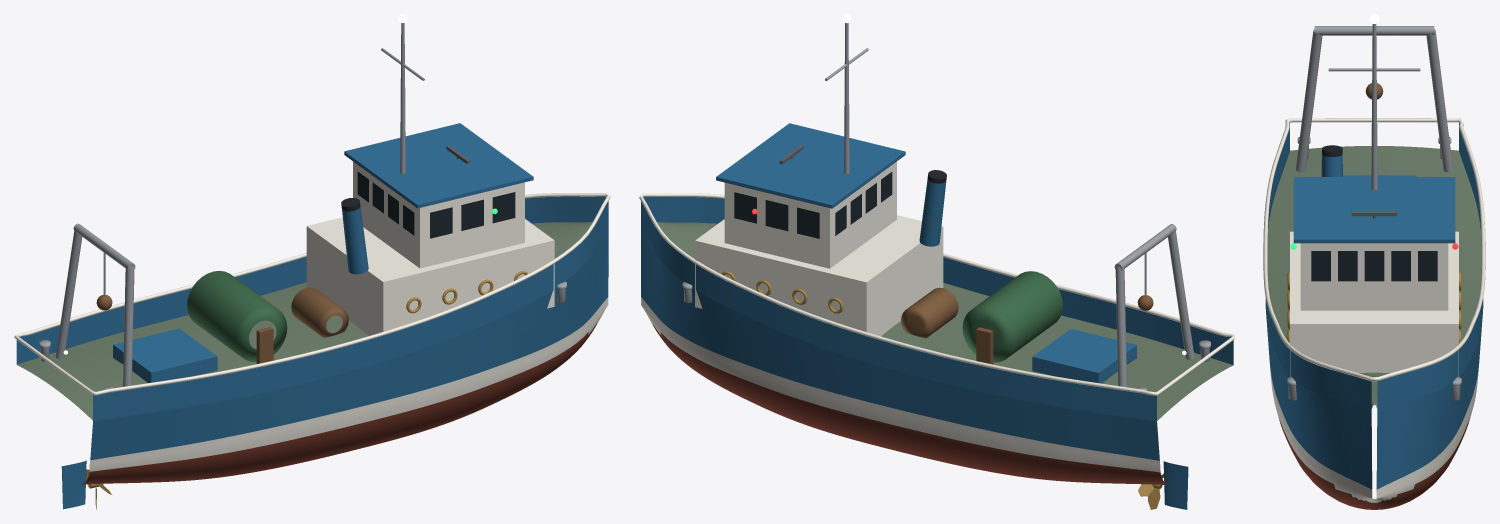
The model's file is trawler.glb.
3 views of the same model, side by side, from view 1: azimuth 30°, elevation 25°; view 2: azimuth 150°, elevation 25°; view 3: azimuth 270°, elevation 25° (orthographic). The views are drawn at different scales.
Visible parts, largest first — view 1: hull, bulwark, deckhouse, deck, wheelhouse_roof, wheelhouse, net_drum, capping_rail, fish_hatch, stern_gantry, wheelhouse_win_s, trawl_winch (+4 smaller); view 2: hull, bulwark, deckhouse, deck, wheelhouse_roof, wheelhouse, net_drum, capping_rail, fish_hatch, stern_gantry, trawl_winch, wheelhouse_win_p (+4 smaller); view 3: hull, deckhouse, wheelhouse_roof, deck, wheelhouse, bulwark, stern_gantry, capping_rail, wheelhouse_win_f, mast_pole, bollards, exhaust_stack (+2 smaller).
Boxes of the visible parts, <box> form: hull: <box>79,225,608,484</box>; bulwark: <box>16,196,608,421</box>; deckhouse: <box>306,217,554,335</box>; deck: <box>17,221,592,420</box>; wheelhouse_roof: <box>344,123,533,208</box>; wheelhouse: <box>353,161,524,268</box>; net_drum: <box>187,271,287,362</box>; capping_rail: <box>14,193,610,395</box>; fish_hatch: <box>113,328,217,382</box>; stern_gantry: <box>55,223,135,386</box>; wheelhouse_win_s: <box>430,192,515,238</box>; trawl_winch: <box>291,287,348,337</box>; hull: <box>641,226,1171,485</box>; bulwark: <box>641,197,1233,421</box>; deckhouse: <box>695,215,943,336</box>; deck: <box>657,222,1233,420</box>; wheelhouse_roof: <box>716,123,905,208</box>; wheelhouse: <box>724,161,896,268</box>; net_drum: <box>962,271,1062,362</box>; capping_rail: <box>639,193,1234,395</box>; fish_hatch: <box>1032,329,1136,383</box>; stern_gantry: <box>1114,224,1194,387</box>; trawl_winch: <box>901,287,958,338</box>; wheelhouse_win_p: <box>734,192,819,238</box>; hull: <box>1266,322,1482,509</box>; deckhouse: <box>1290,231,1458,376</box>; wheelhouse_roof: <box>1293,177,1455,243</box>; deck: <box>1267,146,1481,408</box>; wheelhouse: <box>1300,243,1448,310</box>; bulwark: <box>1265,122,1483,409</box>; stern_gantry: <box>1296,26,1452,172</box>; capping_rail: <box>1263,118,1485,381</box>; wheelhouse_win_f: <box>1311,251,1437,281</box>; mast_pole: <box>1328,24,1420,190</box>; bollards: <box>1287,136,1461,400</box>; exhaust_stack: <box>1321,155,1342,176</box>.
Bounding box in the file's own units: 20.12 × 14.51 × 6.32.
